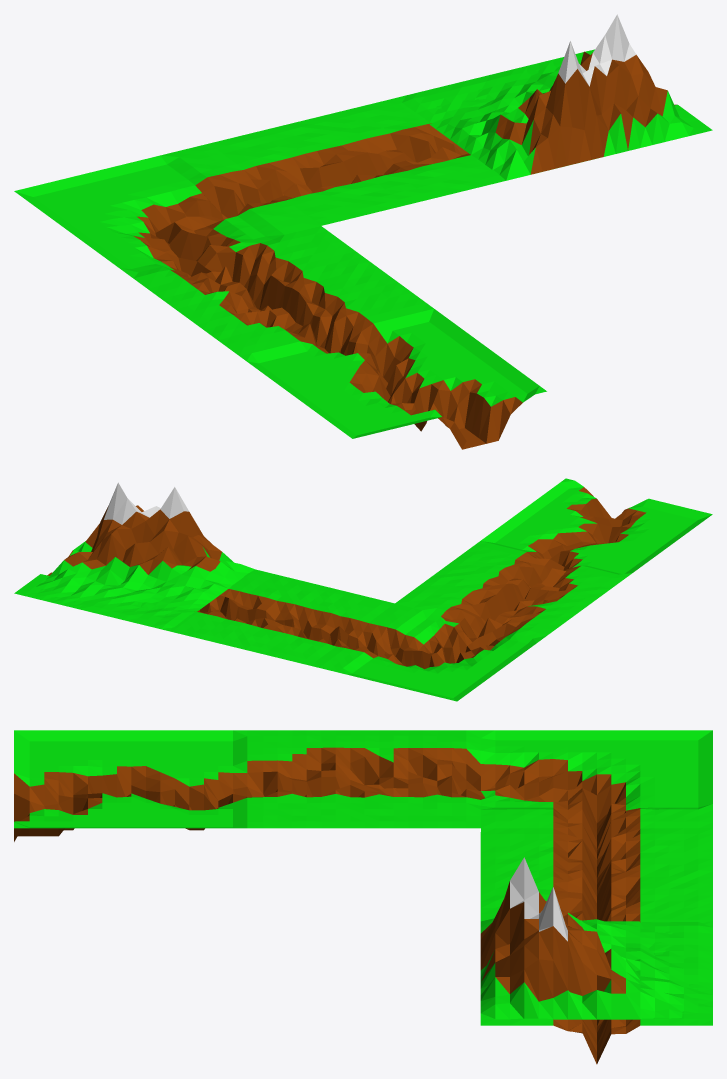
Rendered from EnvironmentModels.fbx.
The picture shows the model from 3 angles, top to bottom: view 1: azimuth 30°, elevation 25°; view 2: azimuth 150°, elevation 25°; view 3: azimuth 270°, elevation 25°; orthographic projection. The views are drawn at different scales.
Visible parts, largest first — view 1: River3.2, Mountains; view 2: River3.2, Mountains; view 3: River3.2, Mountains.
Part boxes in pixels (<box>): River3.2: <box>14,49,712,449</box>; Mountains: <box>394,14,700,180</box>; River3.2: <box>14,478,712,701</box>; Mountains: <box>23,482,254,631</box>; River3.2: <box>14,730,712,1064</box>; Mountains: <box>480,857,712,1019</box>.
Size of the model in its own units: 1084 by 262 by 1084.
